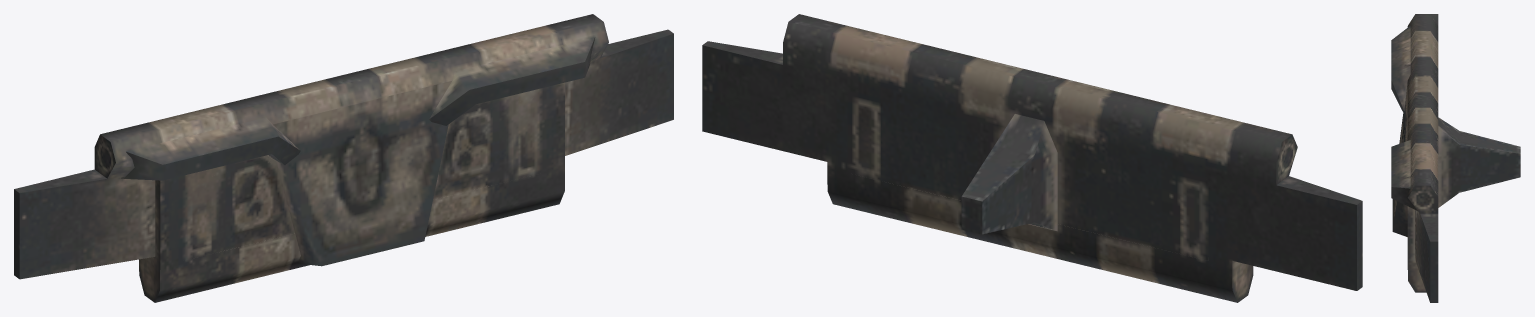
3 views of the same model, side by side, from view 1: azimuth 30°, elevation 25°; view 2: azimuth 150°, elevation 25°; view 3: azimuth 270°, elevation 25° (orthographic). The views are drawn at different scales.
Visible parts, largest first — view 1: set_0_group_0; view 2: set_0_group_0; view 3: set_0_group_0.
Boxes of the visible parts, x1,y1,x2,y2 form: set_0_group_0: (14,14,673,302); set_0_group_0: (702,14,1362,302); set_0_group_0: (1391,14,1520,302).
Size of the model in its own units: 0.7947 by 0.1992 by 0.1904.
Materials: 1 (1 with a texture image).
